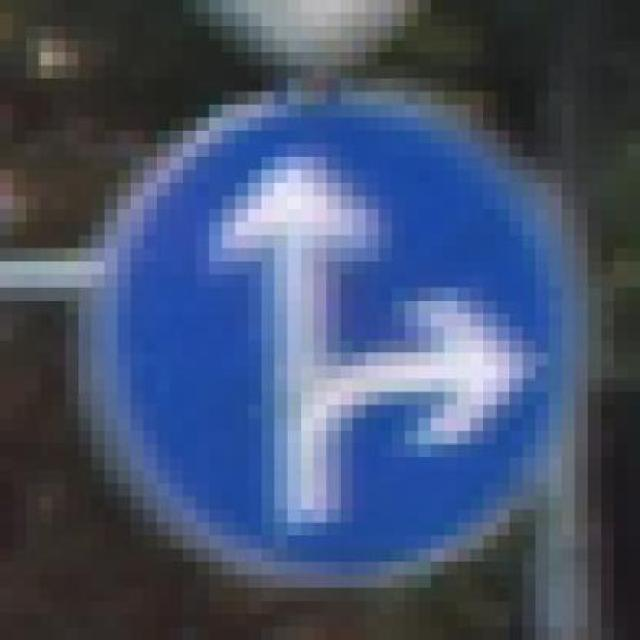Go Straight or Turn Right: (39, 78, 601, 614)
